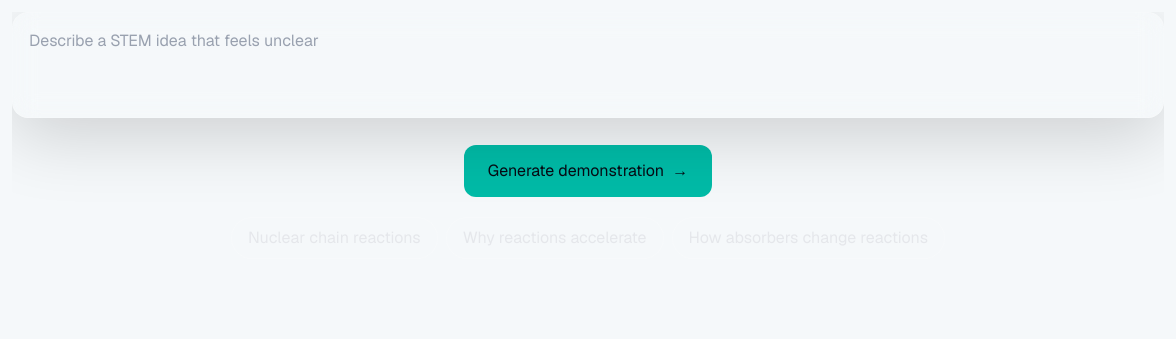
Test: AskDemoForm › shows the clarification card when the offline fallback needs more detail
In the text box named "What topic do you need help with?": (588, 65) x1=12 y1=12 x2=1164 y2=118, type "Why do things fall?"
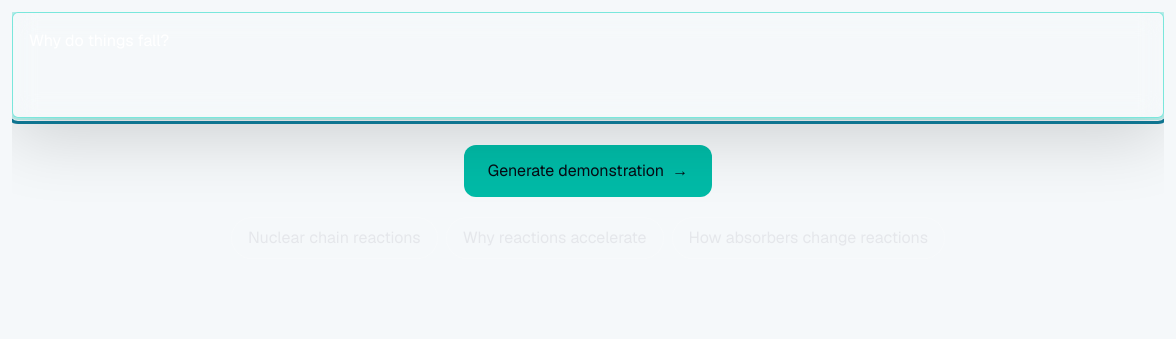
Click the button "Generate demonstration →": click(588, 171) x1=464 y1=145 x2=712 y2=197
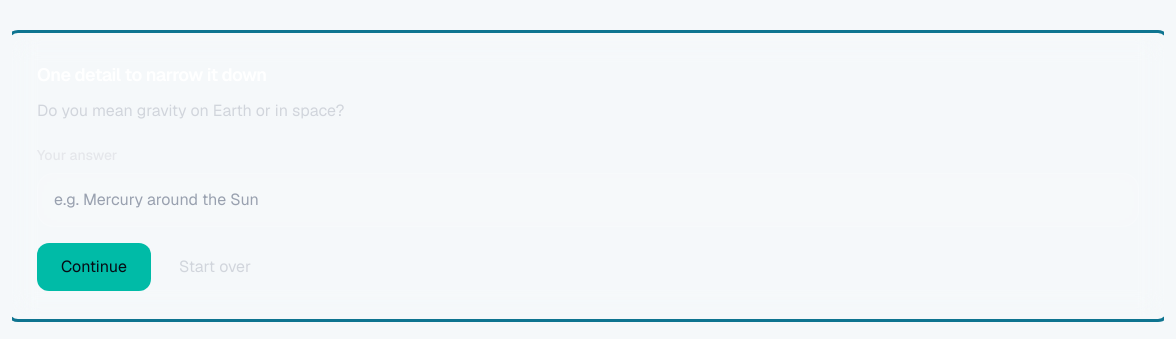
Now the text "Do you mean gravity on Earth or in space?" is shown, box x1=37 y1=100 x2=344 y2=121
